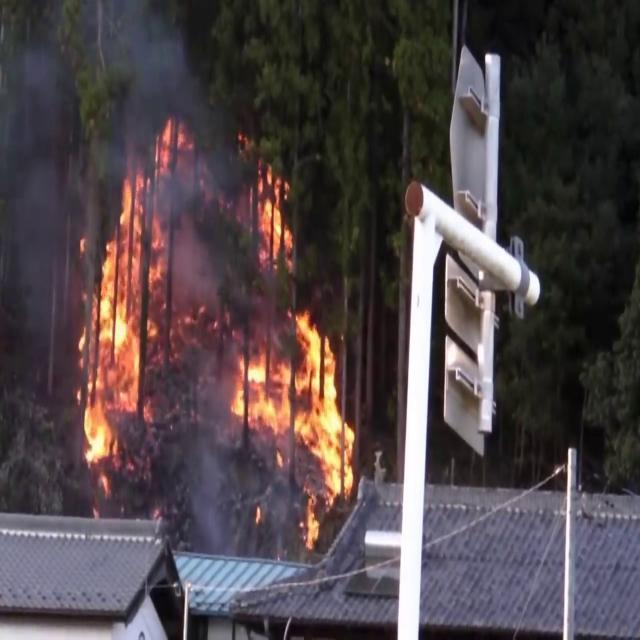Fire: (70, 156, 174, 470), (228, 298, 360, 533), (253, 160, 295, 270)
Smoke: (121, 0, 247, 295), (0, 0, 92, 333)
